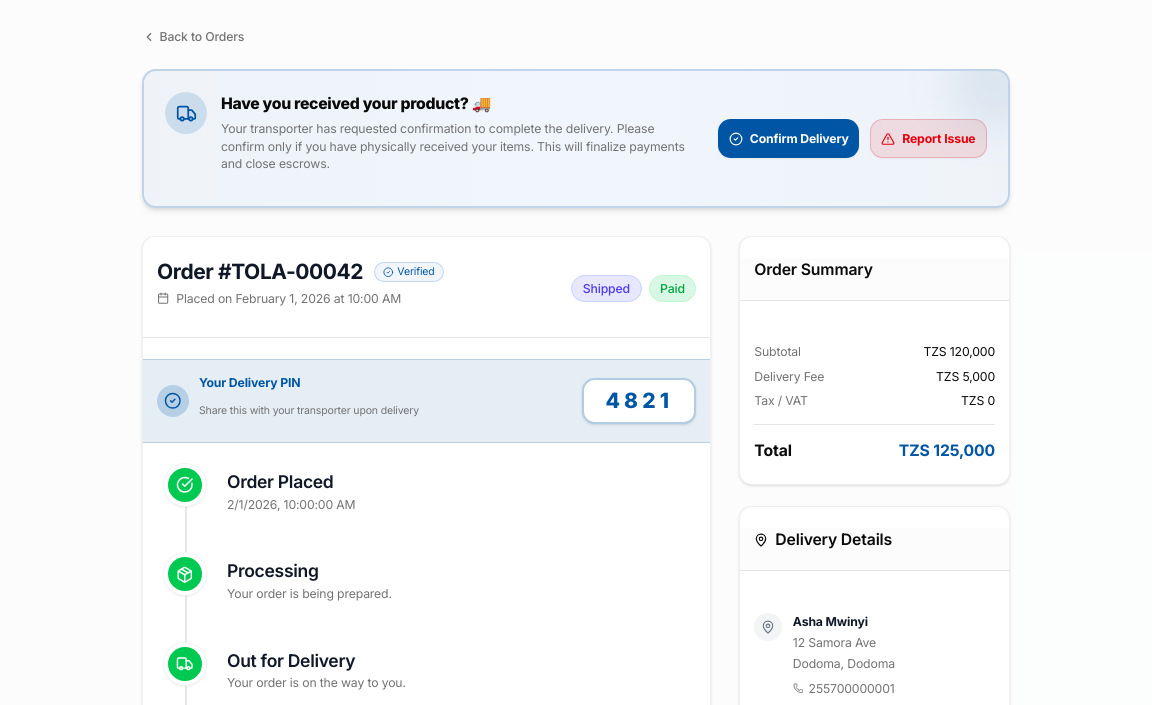
OrderDetailContent › handleConfirmDelivery › surfaces an error and does NOT refresh when the request is rejected
Click the button "Confirm Delivery".
click(789, 139)  # box [718, 120, 859, 158]
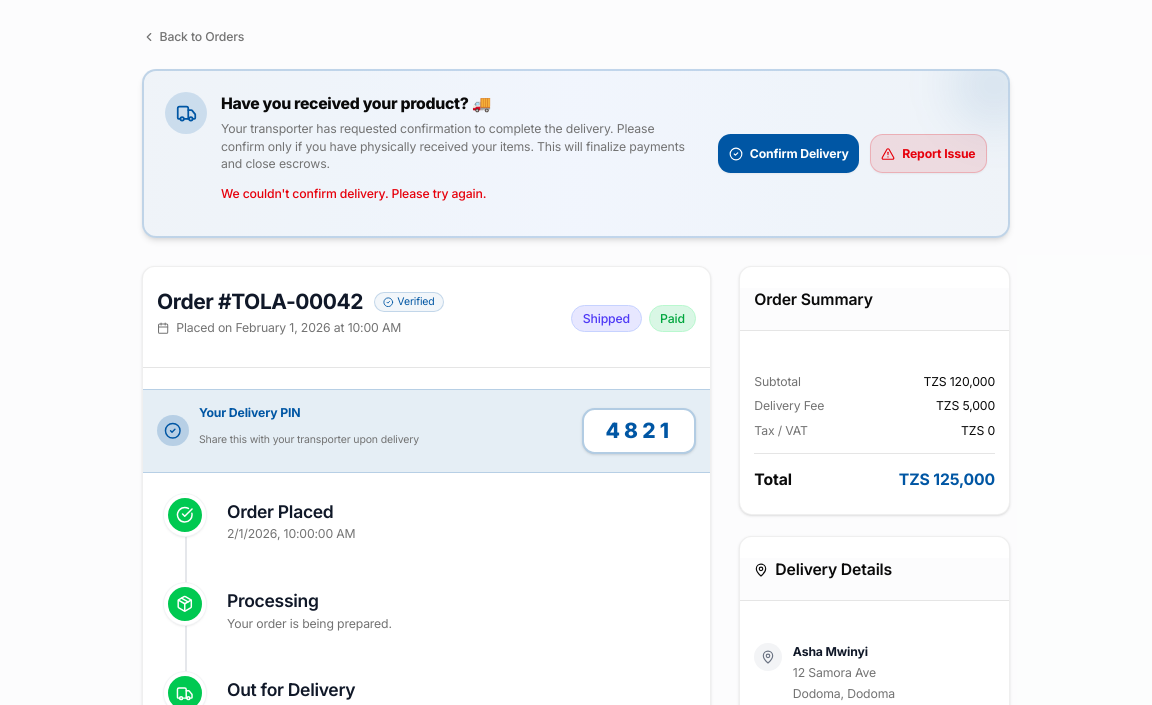
expect the message shows "couldn't confirm delivery": met, box [221, 186, 486, 201]
